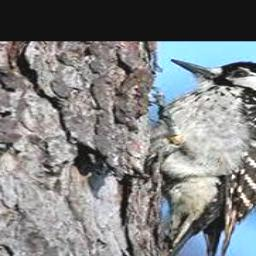Woodpecker: (112, 59, 256, 256)
